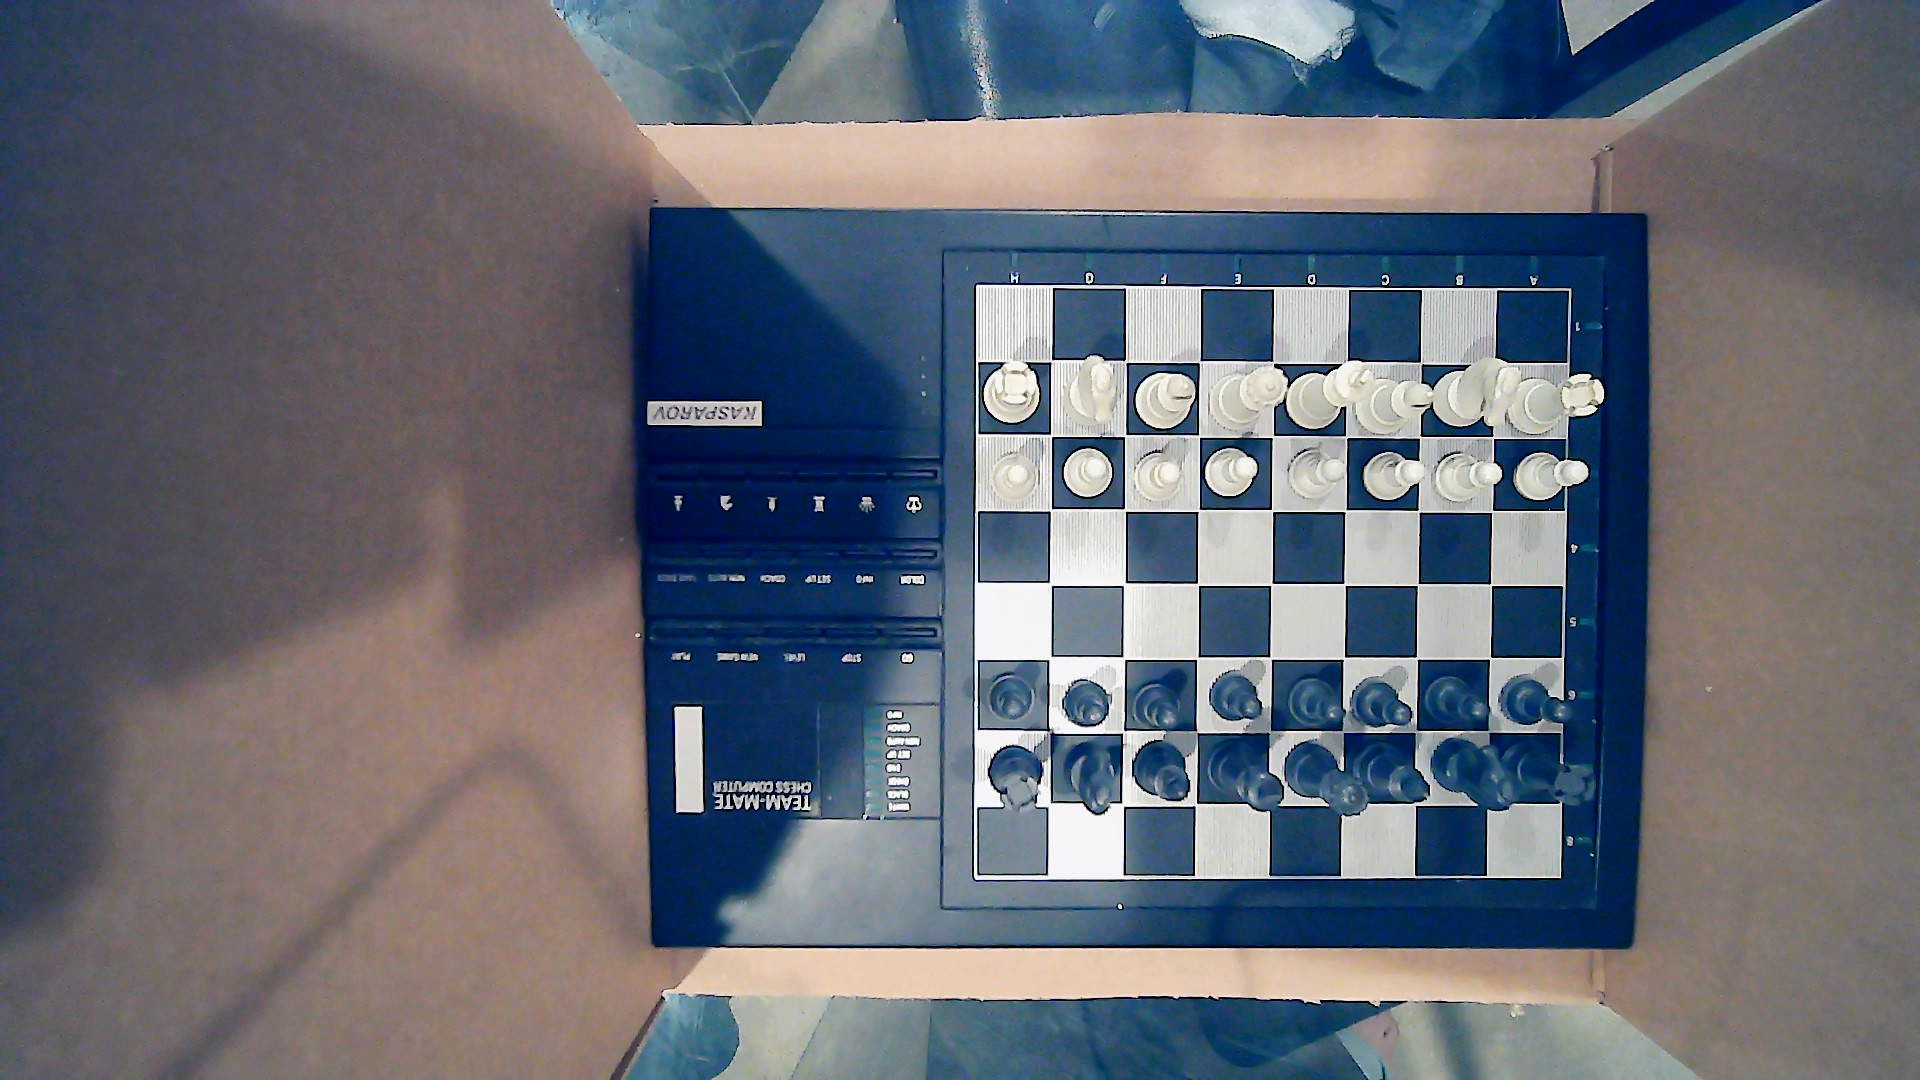bbishop: (1356, 742, 1429, 806), (1133, 741, 1191, 803)
bking: (1207, 738, 1284, 814)
bknight: (1432, 737, 1516, 812), (1063, 740, 1122, 815)
bpawn: (1499, 675, 1577, 727), (1423, 676, 1491, 728), (1350, 676, 1415, 729), (1288, 678, 1346, 727), (1211, 675, 1265, 723), (986, 673, 1036, 721), (1059, 680, 1112, 727), (1130, 683, 1183, 729)
bqueen: (1284, 741, 1367, 819)
brook: (1502, 740, 1600, 807), (988, 746, 1046, 814)
wbishop: (1353, 378, 1433, 433), (1135, 373, 1197, 430)
wking: (1286, 361, 1375, 430)
wknight: (1433, 359, 1523, 429), (1064, 353, 1120, 430)
wpawn: (1513, 451, 1589, 502), (1433, 454, 1503, 502), (1362, 451, 1427, 502), (1288, 448, 1346, 500), (1204, 447, 1259, 498), (990, 452, 1042, 502), (1133, 452, 1184, 502), (1063, 448, 1114, 497)
wqueen: (1208, 367, 1288, 431)
wrook: (1509, 373, 1604, 435), (982, 360, 1042, 425)
